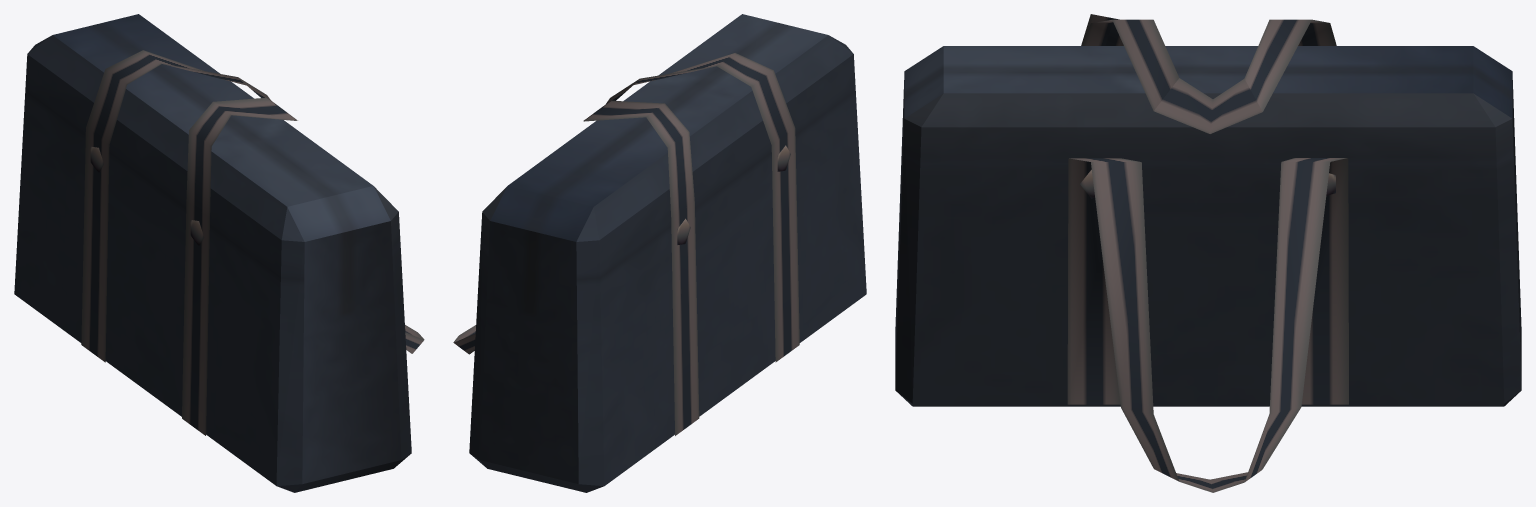
Rendered from bag_typeA2_eve.FBX.
3 renders of one model, left to right at view 1: azimuth 30°, elevation 25°; view 2: azimuth 150°, elevation 25°; view 3: azimuth 270°, elevation 25°, orthographic. The views are drawn at different scales.
Parts seen in each view (by area): view 1: crm_bagA001_eve; view 2: crm_bagA001_eve; view 3: crm_bagA001_eve.
Boxes of the visible parts, x1,y1,x2,y2 form: crm_bagA001_eve: (14, 14, 424, 492); crm_bagA001_eve: (453, 14, 866, 492); crm_bagA001_eve: (895, 14, 1521, 492).
Bounding box in the file's own units: 24.91 × 26.43 × 43.33.
